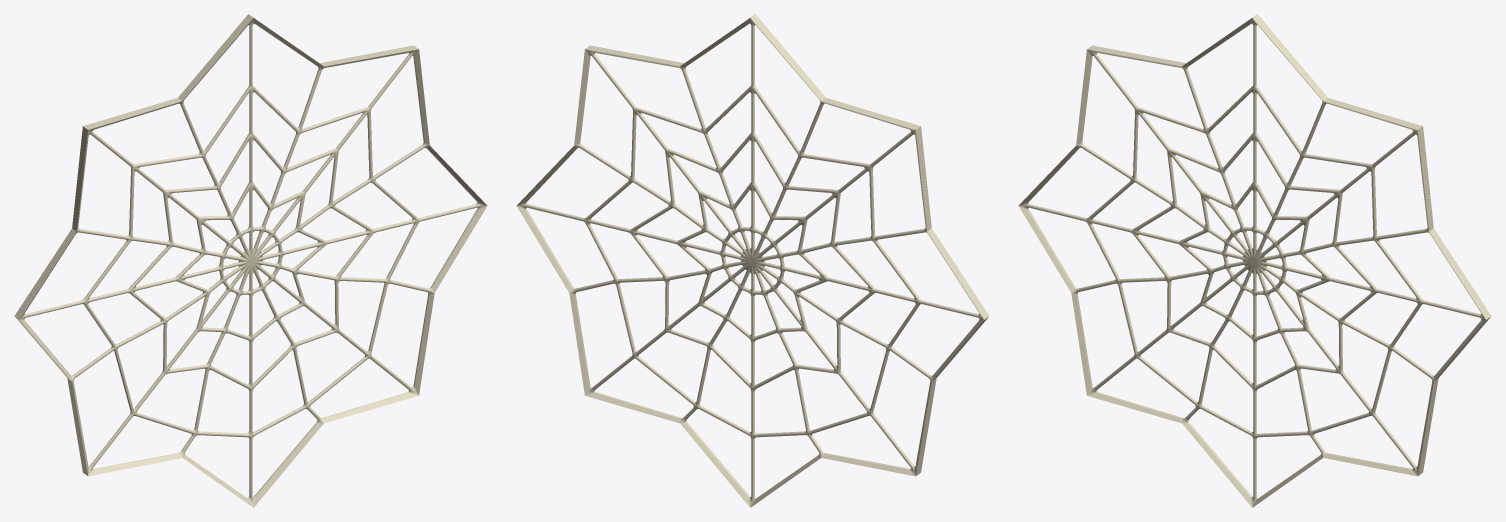
Rendered from spiderWebs.glb.
3 renders of one model, left to right at view 1: azimuth 30°, elevation 25°; view 2: azimuth 150°, elevation 25°; view 3: azimuth 330°, elevation 25°, orthographic.
Parts seen in each view (by area): view 1: Cylinder.012; view 2: Cylinder.012; view 3: Cylinder.012.
Part boxes in pixels (<box>): Cylinder.012: <box>14,14,487,507</box>; Cylinder.012: <box>516,14,989,507</box>; Cylinder.012: <box>1018,14,1491,507</box>.
Size of the model in its own units: 2.09 by 2.09 by 0.0412.
